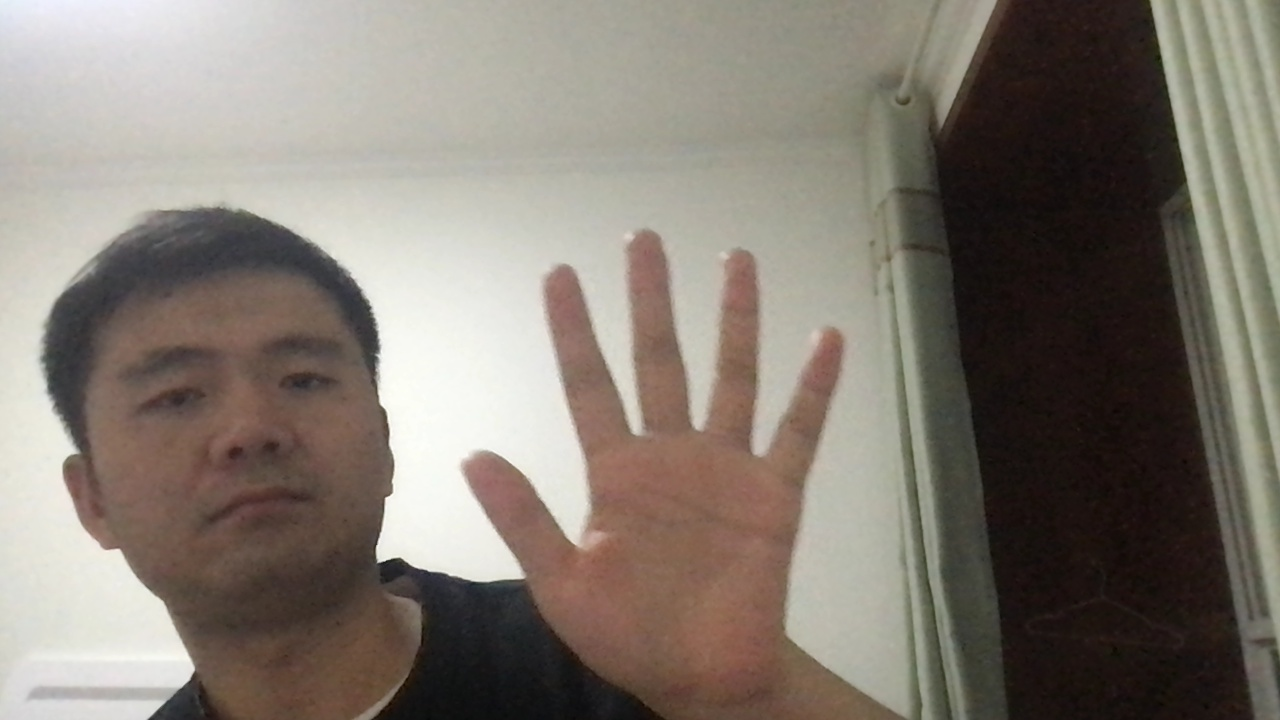hello: (459, 225, 851, 694)
